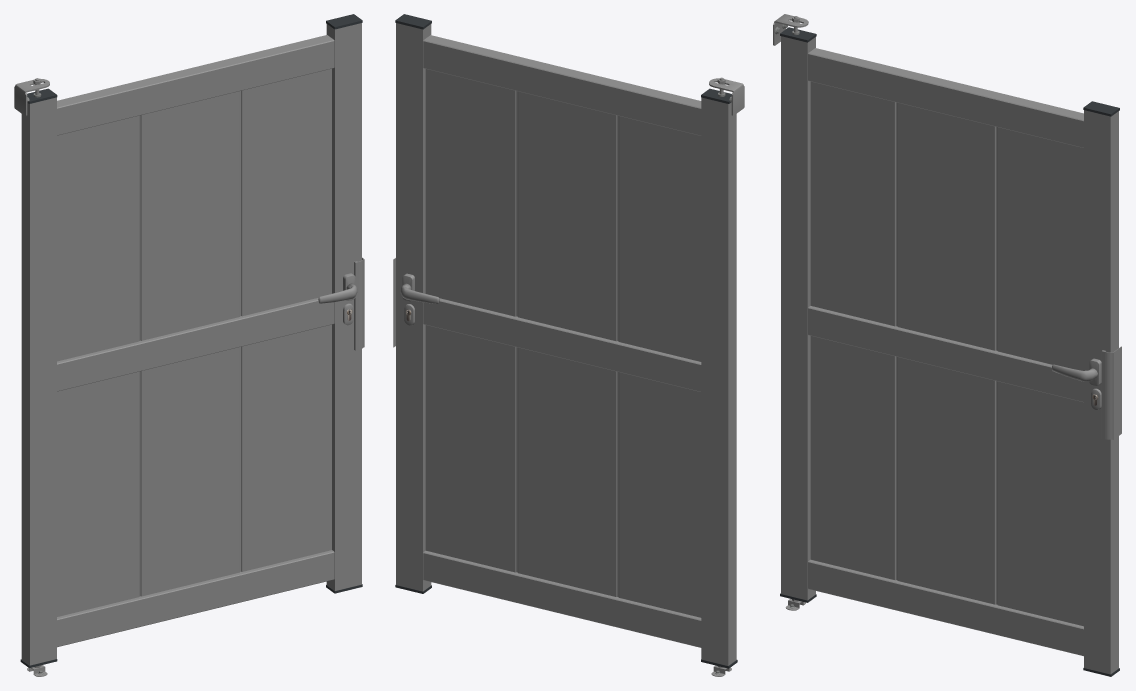
3 views of the same model, side by side, from view 1: azimuth 30°, elevation 25°; view 2: azimuth 150°, elevation 25°; view 3: azimuth 330°, elevation 25° (orthographic).
Visible parts, largest first — view 1: Shape107412287, Shape107412288, Shape107412283, Shape107412643, Shape107412638, Shape107412286, Shape107412285, Shape107412284, Shape107412637, Rectangle057; view 2: Shape107412287, Shape107412288, Shape107412283, Shape107412643, Shape107412638, Shape107412286, Shape107412285, Shape107412284, Rectangle057; view 3: Shape107412287, Shape107412283, Shape107412288, Shape107412638, Shape107412643, Shape107412286, Shape107412285, Shape107412284, Shape107412637.
Boxes of the visible parts, <box> form: Shape107412287: <box>140,91,241,596</box>; Shape107412288: <box>241,68,331,571</box>; Shape107412283: <box>57,115,140,616</box>; Shape107412643: <box>21,97,56,665</box>; Shape107412638: <box>326,23,361,590</box>; Shape107412286: <box>57,35,334,135</box>; Shape107412285: <box>57,550,334,647</box>; Shape107412284: <box>57,298,334,391</box>; Shape107412637: <box>354,257,364,350</box>; Rectangle057: <box>14,78,49,116</box>; Shape107412287: <box>516,91,617,596</box>; Shape107412288: <box>425,69,516,572</box>; Shape107412283: <box>617,115,701,617</box>; Shape107412643: <box>701,97,736,665</box>; Shape107412638: <box>396,23,431,591</box>; Shape107412286: <box>423,35,701,135</box>; Shape107412285: <box>423,550,701,647</box>; Shape107412284: <box>423,298,701,391</box>; Rectangle057: <box>709,78,744,115</box>; Shape107412287: <box>897,103,997,604</box>; Shape107412283: <box>810,81,897,580</box>; Shape107412288: <box>997,127,1083,626</box>; Shape107412638: <box>1084,110,1118,674</box>; Shape107412643: <box>781,36,815,600</box>; Shape107412286: <box>808,48,1083,147</box>; Shape107412285: <box>808,559,1083,656</box>; Shape107412284: <box>808,306,1083,402</box>; Shape107412637: <box>1101,346,1121,439</box>.
Size of the model in its own units: 1015 by 1688 by 152.
Materials: 7 (4 with a texture image).
